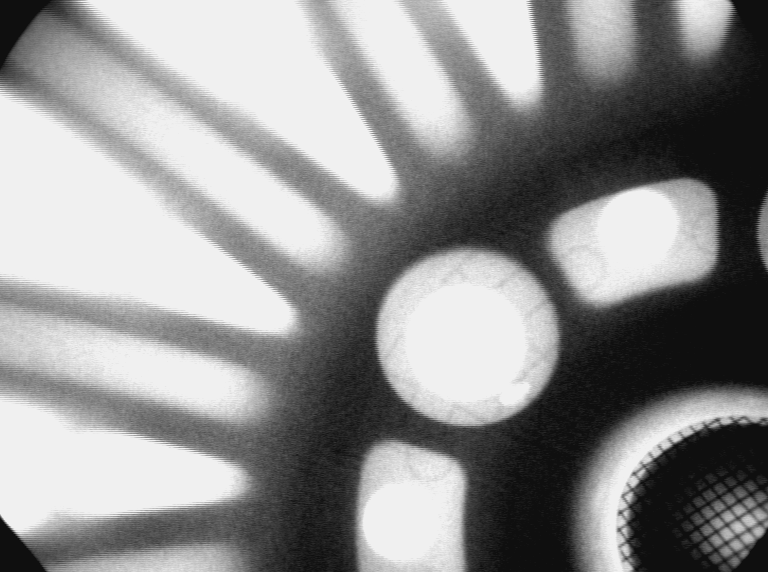defect: (499, 376, 535, 411)
